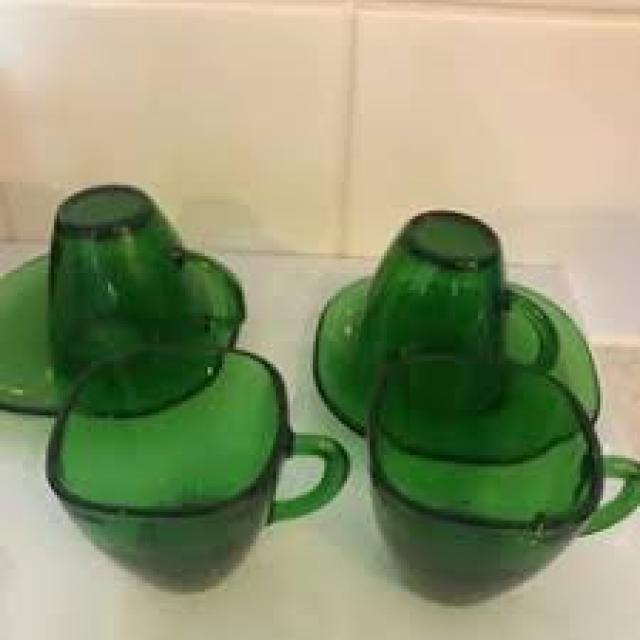glass: (43, 339, 347, 592), (367, 347, 637, 606), (313, 270, 600, 458), (0, 245, 242, 415), (350, 208, 557, 404), (45, 182, 242, 370)
